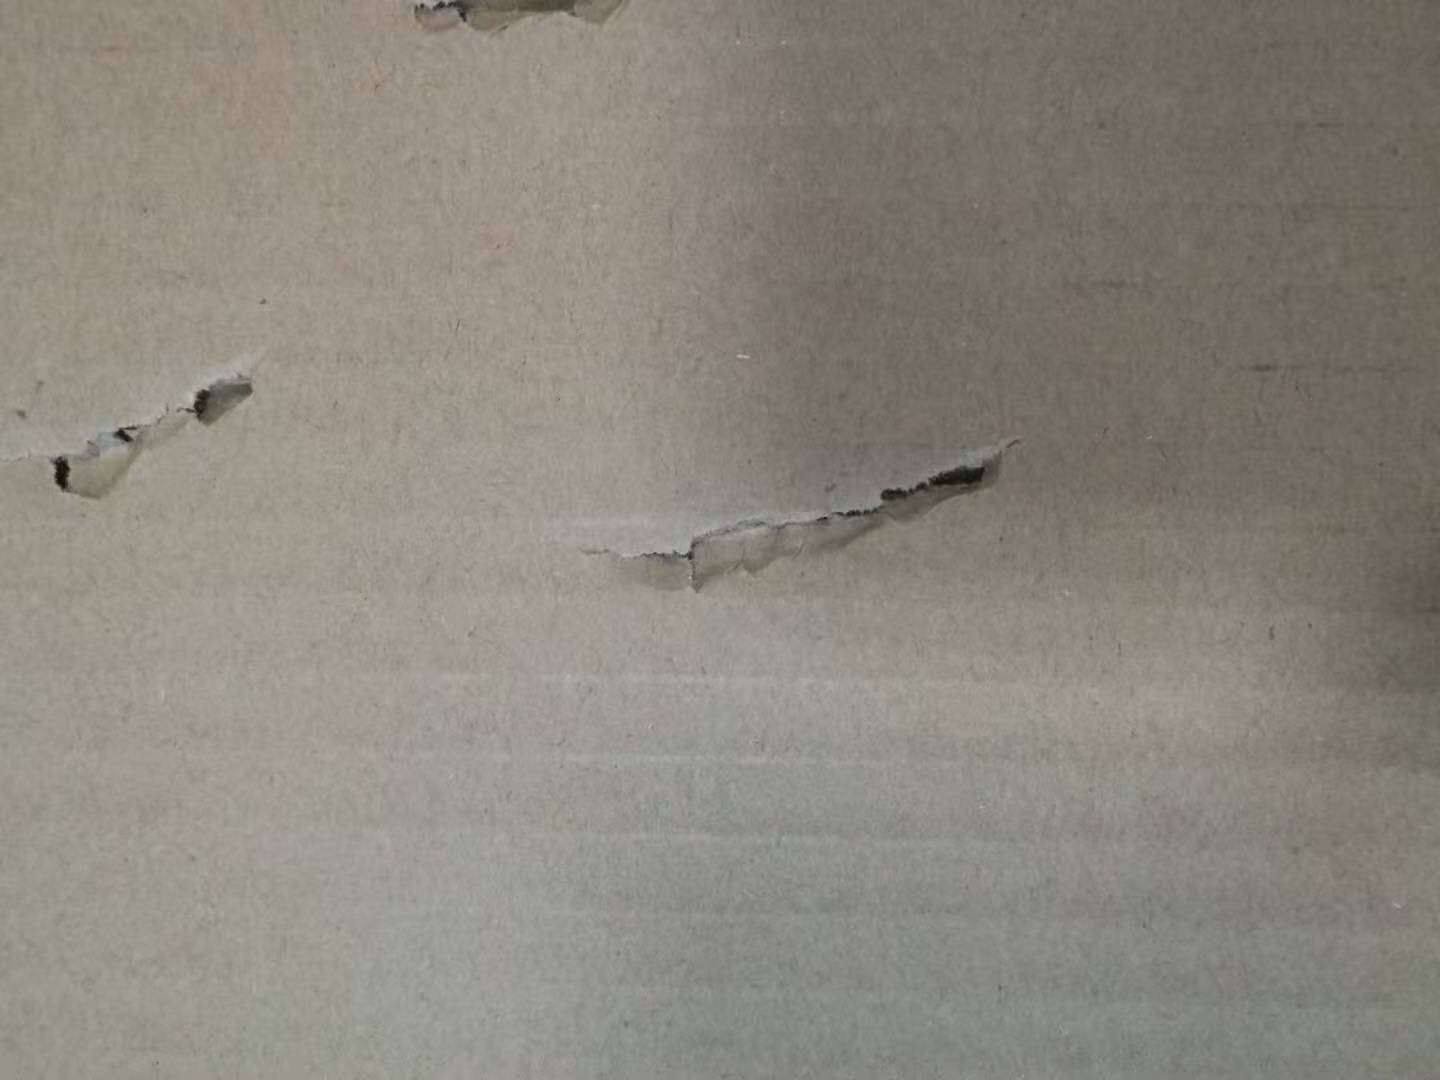defect: (556, 417, 1048, 621), (3, 327, 302, 525), (388, 1, 651, 67)
